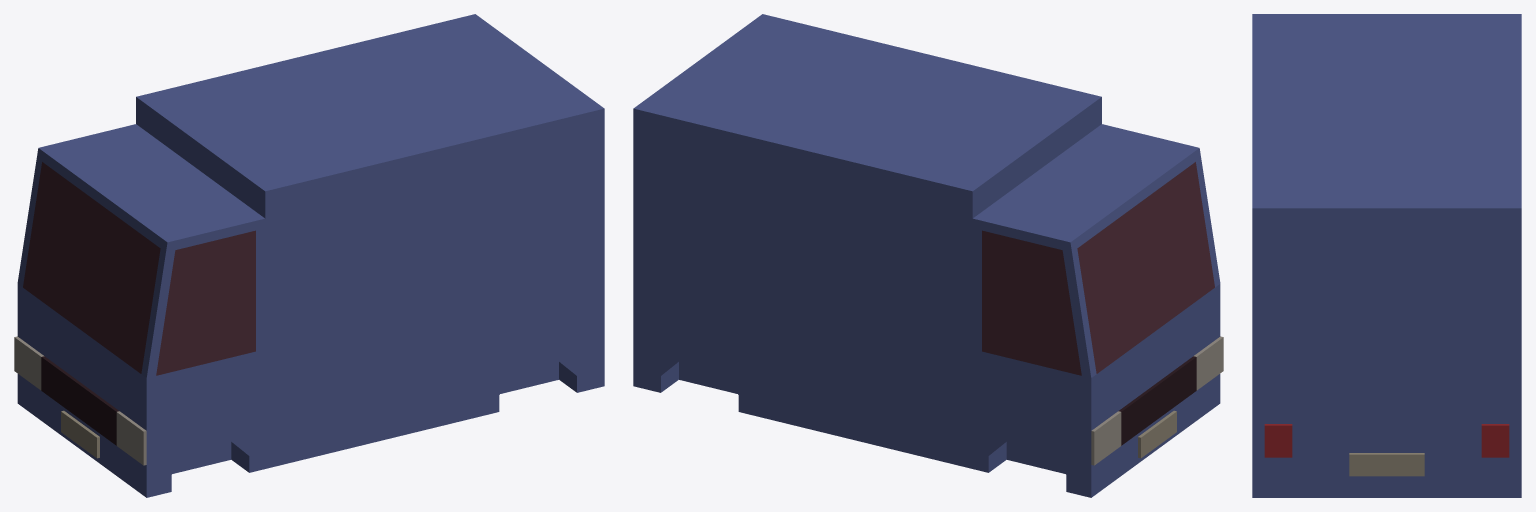
Rendered from MiniTruck_Blue.fbx.
The picture shows the model from 3 angles, left to right: view 1: azimuth 30°, elevation 25°; view 2: azimuth 150°, elevation 25°; view 3: azimuth 270°, elevation 25°; orthographic projection. The views are drawn at different scales.
Visible parts, largest first — view 1: MiniTruck_Blue, MiniTruck_Lights; view 2: MiniTruck_Blue, MiniTruck_Lights; view 3: MiniTruck_Blue, MiniTruck_Lights.
Part boxes in pixels (<box>): MiniTruck_Blue: <box>17,14,604,497</box>; MiniTruck_Lights: <box>14,336,146,465</box>; MiniTruck_Blue: <box>633,14,1220,497</box>; MiniTruck_Lights: <box>1091,336,1223,465</box>; MiniTruck_Blue: <box>1252,14,1521,497</box>; MiniTruck_Lights: <box>1264,424,1509,457</box>.
Size of the model in its own units: 4.46 by 2.55 by 2.15.
